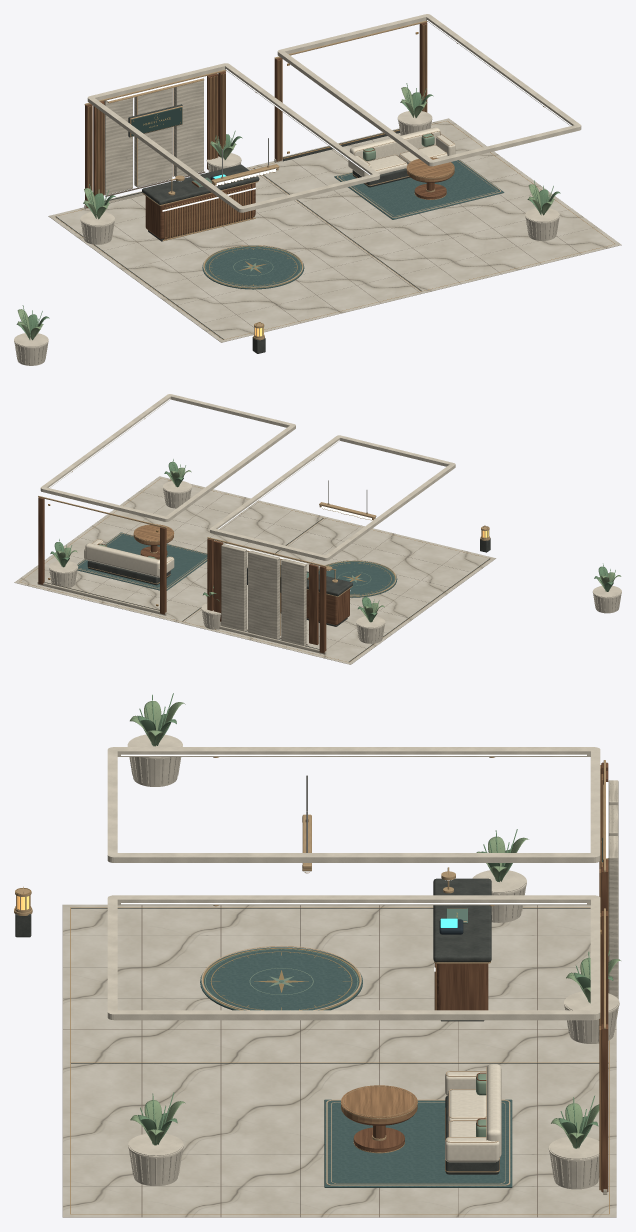
The model's file is hall-quality.glb.
3 renders of one model, top to bottom at view 1: azimuth 30°, elevation 25°; view 2: azimuth 150°, elevation 25°; view 3: azimuth 270°, elevation 25°, orthographic. The views are drawn at different scales.
Visible parts, largest first — view 1: Hall quality · architecture · 09 · Calacatta ivory marble, Hall quality · finish · 02 · Honed ivory limestone, Hall quality · finish · 01 · Vein-cut ivory travertine, Hall quality · furniture · 20 · Mist-blue wool, Hall quality · finish · 08 · Pale European oak, Hall quality · furniture · 02 · Honed ivory limestone, Hall quality · furniture · 07 · Natural walnut, Hall quality · furniture · 18 · Ivory bouclé, Hall quality · finish · 05 · Satin champagne bronze, Hall quality · finish · 07 · Natural walnut, Hall quality · furniture · 03 · Dove-gray basalt, Hall quality · finish · 11 · Yew foliage (+9 smaller); view 2: Hall quality · architecture · 09 · Calacatta ivory marble, Hall quality · finish · 02 · Honed ivory limestone, Hall quality · finish · 01 · Vein-cut ivory travertine, Hall quality · finish · 07 · Natural walnut, Hall quality · furniture · 20 · Mist-blue wool, Hall quality · furniture · 02 · Honed ivory limestone, Hall quality · furniture · 18 · Ivory bouclé, Hall quality · furniture · 03 · Dove-gray basalt, Hall quality · finish · 05 · Satin champagne bronze, Hall quality · furniture · 07 · Natural walnut, Hall quality · finish · 11 · Yew foliage, Hall quality · finish · 12 · Olive foliage (+5 smaller); view 3: Hall quality · architecture · 09 · Calacatta ivory marble, Hall quality · finish · 02 · Honed ivory limestone, Hall quality · furniture · 20 · Mist-blue wool, Hall quality · furniture · 02 · Honed ivory limestone, Hall quality · furniture · 03 · Dove-gray basalt, Hall quality · furniture · 18 · Ivory bouclé, Hall quality · furniture · 07 · Natural walnut, Hall quality · finish · 12 · Olive foliage, Hall quality · architecture · Pencil-gray stone joints, Hall quality · finish · 07 · Natural walnut, Hall quality · furniture · 08 · Pale European oak, Hall quality · finish · 11 · Yew foliage (+8 smaller).
Part boxes in pixels (box(x1,y1,x2,y2)): Hall quality · architecture · 09 · Calacatta ivory marble: box(48, 118, 621, 342); Hall quality · finish · 02 · Honed ivory limestone: box(14, 14, 581, 364); Hall quality · finish · 01 · Vein-cut ivory travertine: box(84, 76, 399, 209); Hall quality · furniture · 20 · Mist-blue wool: box(202, 160, 504, 289); Hall quality · finish · 08 · Pale European oak: box(87, 24, 427, 239); Hall quality · furniture · 02 · Honed ivory limestone: box(14, 111, 558, 365); Hall quality · furniture · 07 · Natural walnut: box(145, 181, 446, 239); Hall quality · furniture · 18 · Ivory bouclé: box(348, 127, 455, 176); Hall quality · finish · 05 · Satin champagne bronze: box(84, 20, 544, 340); Hall quality · finish · 07 · Natural walnut: box(85, 22, 452, 207); Hall quality · furniture · 03 · Dove-gray basalt: box(142, 164, 410, 241); Hall quality · finish · 11 · Yew foliage: box(16, 83, 560, 339); Hall quality · architecture · 09 · Calacatta ivory marble: box(14, 476, 495, 664); Hall quality · finish · 02 · Honed ivory limestone: box(40, 394, 621, 642); Hall quality · finish · 01 · Vein-cut ivory travertine: box(37, 544, 326, 654); Hall quality · finish · 07 · Natural walnut: box(38, 497, 326, 653); Hall quality · furniture · 20 · Mist-blue wool: box(77, 532, 397, 597); Hall quality · furniture · 02 · Honed ivory limestone: box(49, 481, 621, 643); Hall quality · furniture · 18 · Ivory bouclé: box(84, 539, 174, 577); Hall quality · furniture · 03 · Dove-gray basalt: box(87, 560, 352, 626); Hall quality · finish · 05 · Satin champagne bronze: box(38, 418, 490, 635); Hall quality · furniture · 07 · Natural walnut: box(140, 545, 349, 625); Hall quality · finish · 11 · Yew foliage: box(50, 459, 615, 622); Hall quality · finish · 12 · Olive foliage: box(53, 467, 621, 621); Hall quality · architecture · 09 · Calacatta ivory marble: box(63, 904, 616, 1217); Hall quality · finish · 02 · Honed ivory limestone: box(107, 737, 619, 1187); Hall quality · furniture · 20 · Mist-blue wool: box(200, 947, 512, 1187); Hall quality · furniture · 02 · Honed ivory limestone: box(128, 734, 618, 1189); Hall quality · furniture · 03 · Dove-gray basalt: box(433, 878, 499, 1174); Hall quality · furniture · 18 · Ivory bouclé: box(445, 1064, 501, 1162); Hall quality · furniture · 07 · Natural walnut: box(353, 908, 488, 1152); Hall quality · finish · 12 · Olive foliage: box(130, 701, 620, 1148); Hall quality · architecture · Pencil-gray stone joints: box(62, 905, 616, 1217); Hall quality · finish · 07 · Natural walnut: box(344, 762, 608, 1192); Hall quality · furniture · 08 · Pale European oak: box(341, 1085, 417, 1123); Hall quality · finish · 11 · Yew foliage: box(137, 693, 613, 1148).
Bounding box in the file's own units: 18.31 × 3.78 × 10.45.
30 materials, 9 textured.
